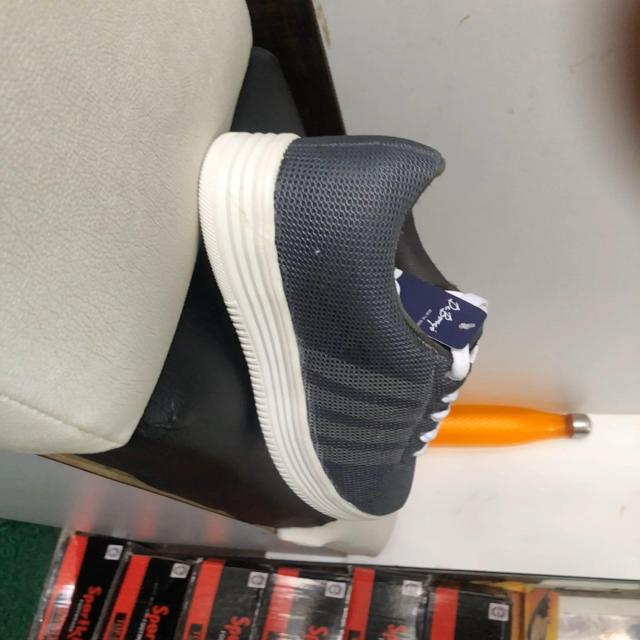shoe: (198, 132, 489, 521)
